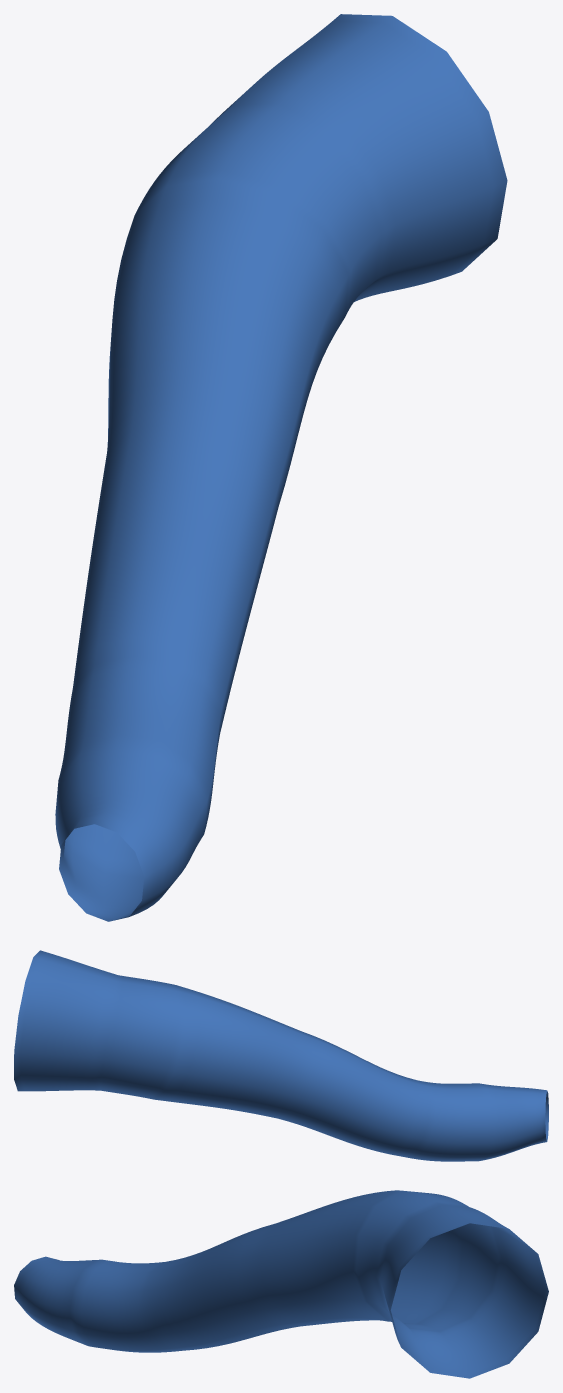
3 renders of one model, top to bottom at view 1: azimuth 30°, elevation 25°; view 2: azimuth 150°, elevation 25°; view 3: azimuth 270°, elevation 25°, orthographic. The views are drawn at different scales.
Parts seen in each view (by area): view 1: 右肺上静脉; view 2: 右肺上静脉; view 3: 右肺上静脉.
Boxes of the visible parts, x1=… form: 右肺上静脉: x1=55, y1=14, x2=507, y2=921; 右肺上静脉: x1=14, y1=950, x2=548, y2=1161; 右肺上静脉: x1=14, y1=1190, x2=548, y2=1378.
Size of the model in its own units: 0.0475 by 0.0306 by 0.0521.
